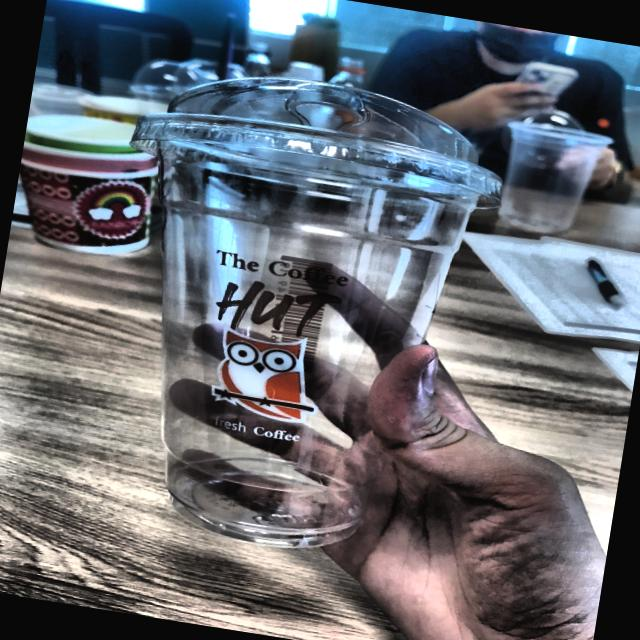plastic cup: (62, 51, 549, 588)
